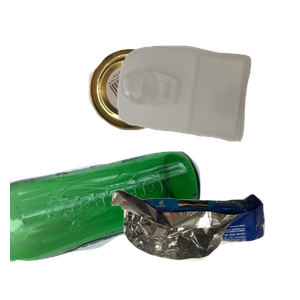glass: (10, 149, 203, 300)
metal: (86, 46, 248, 169)
plastic: (115, 43, 300, 177)
trash: (109, 187, 300, 300)
